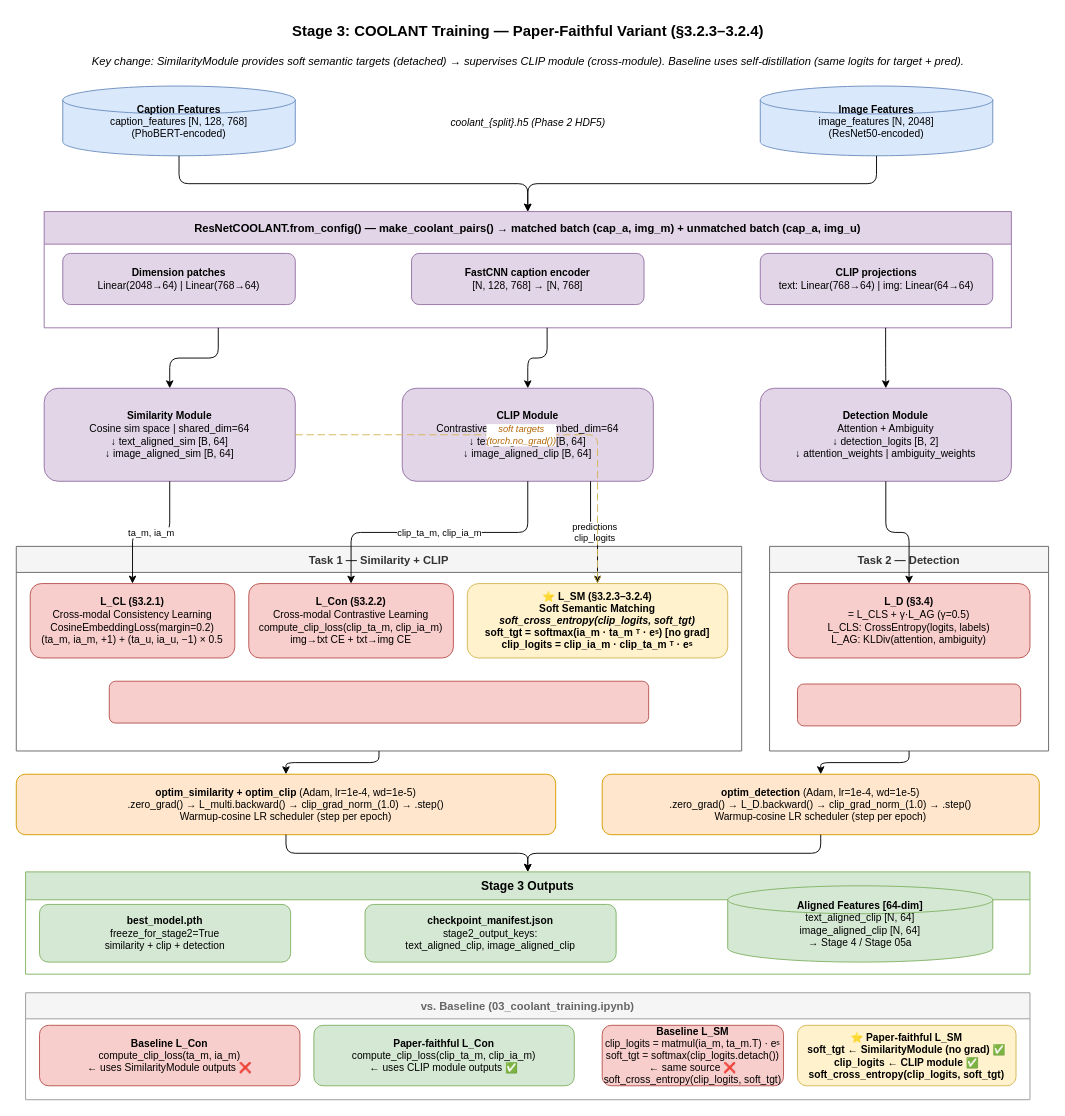
Some shapes in this 1065 by 1116 pixel diagram are drawn without their labels. Here are the shapes that lost their labels. From the top down, the centre of each, then its label:
point 378,701: L_multi = 0.5 × L_CL + 0.2 × (L_Con + L_SM)
point 909,704: L_D = L_CLS + γ·L_AG (γ=0.5)
